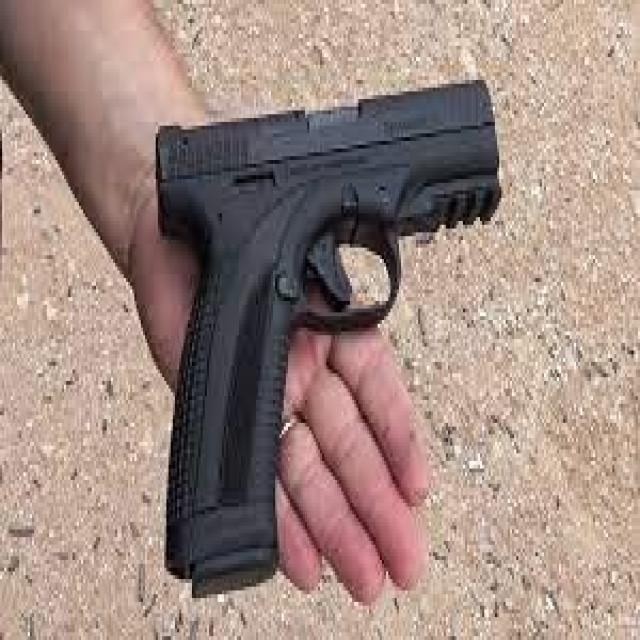Gun: (92, 44, 562, 595)
